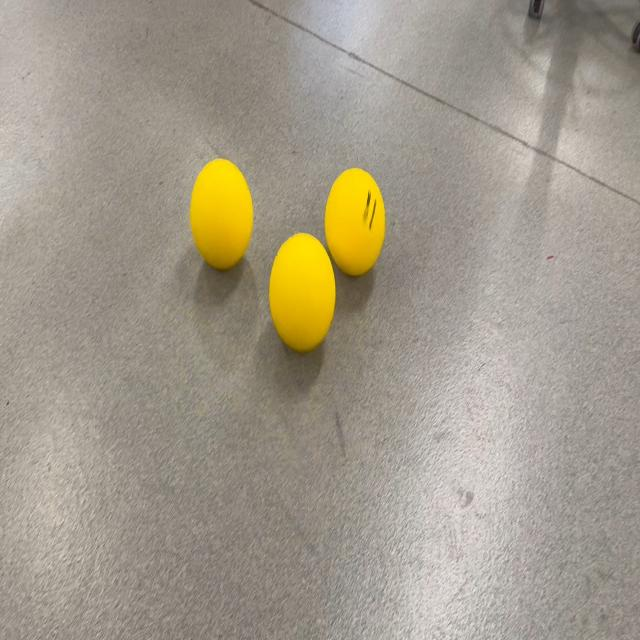Fuel: (269, 232, 336, 352), (190, 158, 254, 272), (324, 167, 385, 277)
